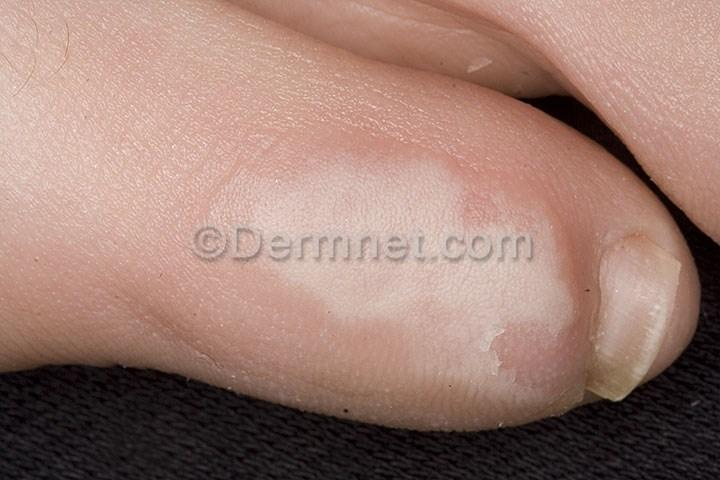Eczema: (311, 291, 568, 429), (224, 113, 543, 221), (143, 264, 305, 394), (536, 207, 604, 294)
